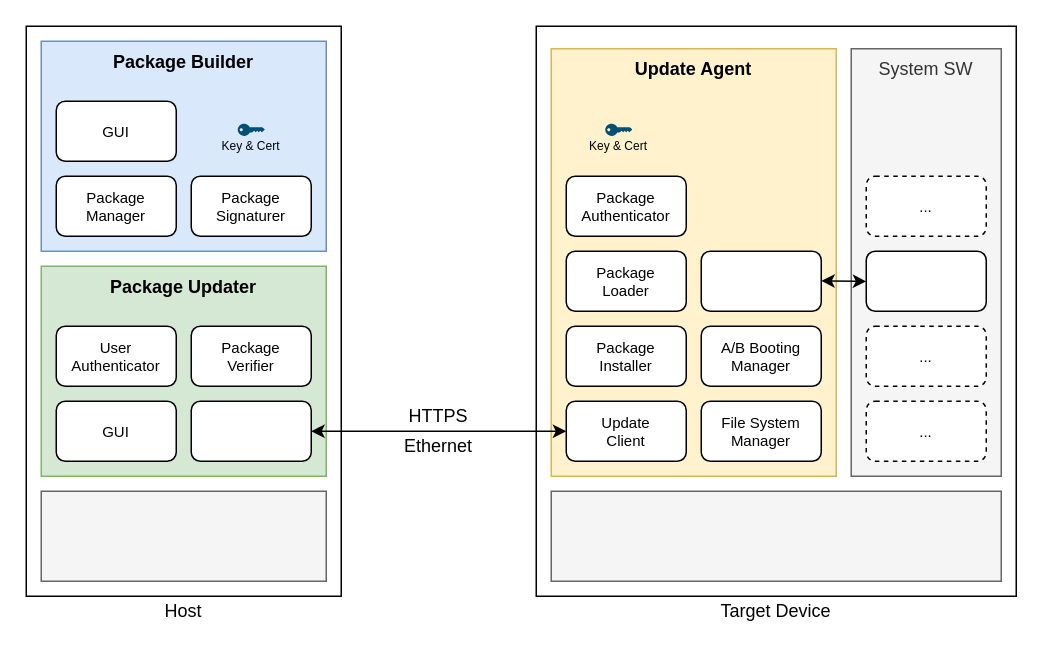
This 1043x653 diagram has some shape labels left out. Here are the shapes that lost their labels. From the top down, the centre of each, then its label:
At point 760,280: "Status Notifier".
At point 925,280: "System GUI".
At point 250,430: "Update Sever".
At point 183,535: "Windows / Linux / macOS".
At point 775,535: "QNX / Linux".
